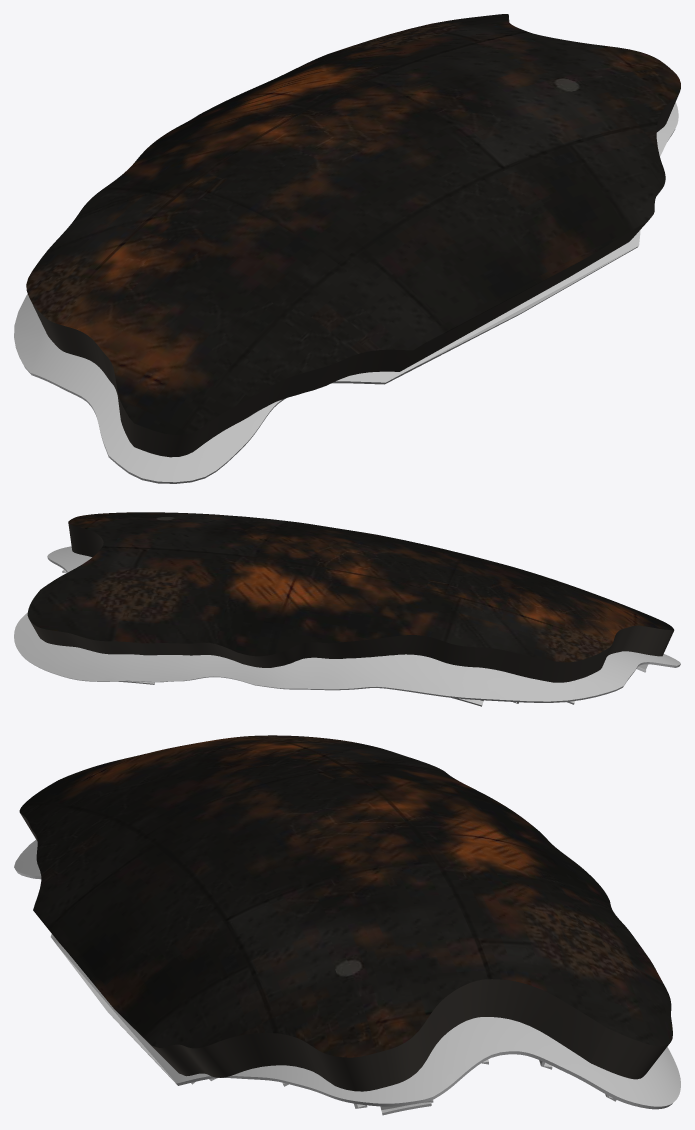
File: capsule_heatshield_panel.glb
The picture shows the model from 3 angles, top to bottom: view 1: azimuth 30°, elevation 25°; view 2: azimuth 150°, elevation 25°; view 3: azimuth 270°, elevation 25°; orthographic projection. The views are drawn at different scales.
Parts seen in each view (by area): view 1: capsule_heatshield_panel; view 2: capsule_heatshield_panel; view 3: capsule_heatshield_panel.
Boxes of the visible parts, x1,y1,x2,y2 form: capsule_heatshield_panel: (14,14,680,483); capsule_heatshield_panel: (14,512,680,706); capsule_heatshield_panel: (14,735,680,1115).
Size of the model in its own units: 1.23 by 0.3137 by 0.8904.
Materials: 6 (1 with a texture image).
